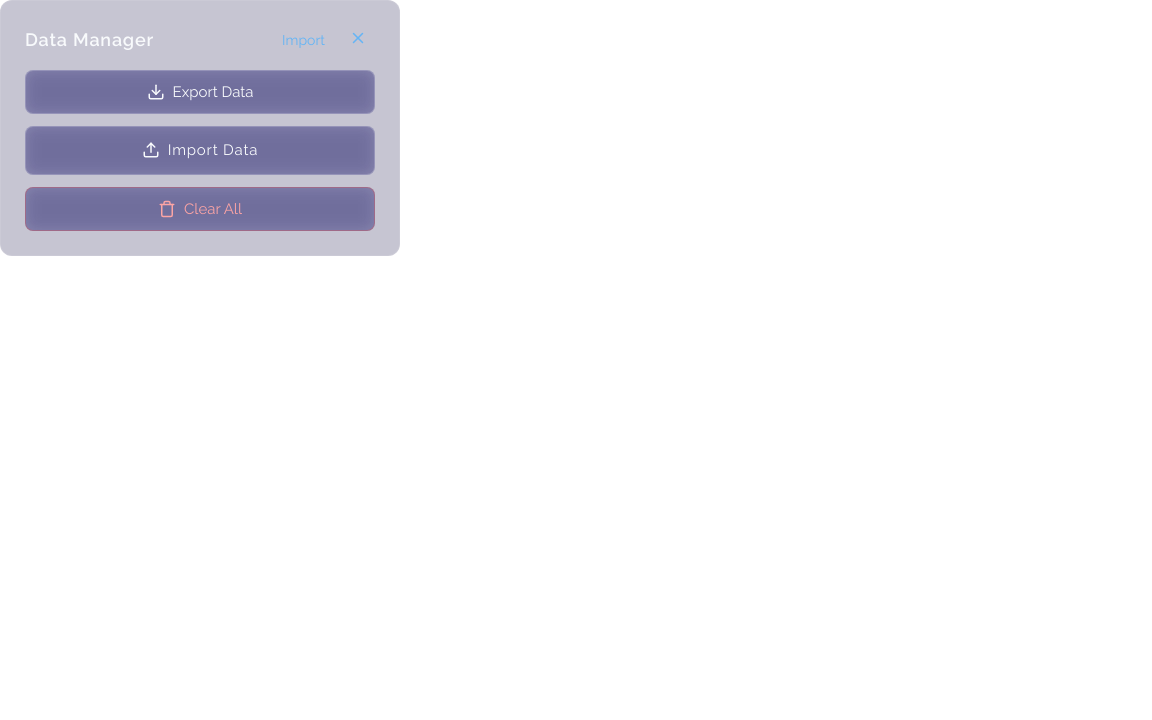
Test: DataManager › shows confirm dialog when Clear All is clicked
What coordinates should you click on to do the following:
click the button "Clear All"
I would click on:
 (200, 208)
Its box is 25,186 -> 375,230.
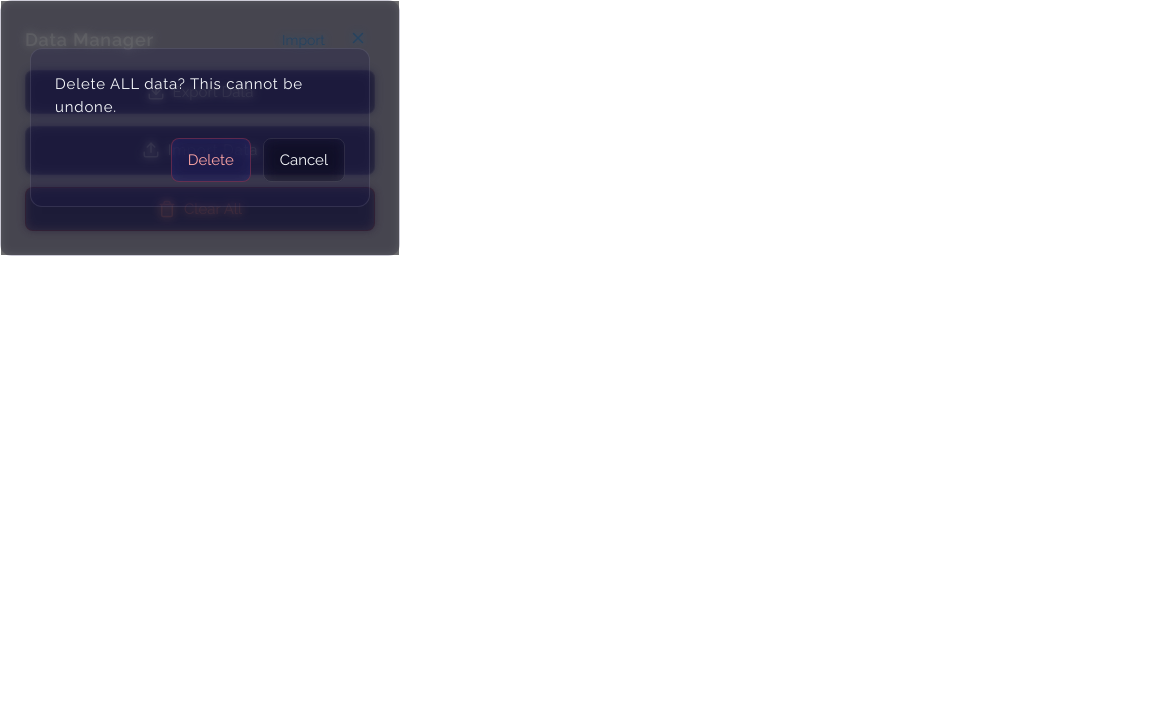
Result: the text "Delete ALL data? This cannot be undone." is shown at 55,73 -> 345,118
